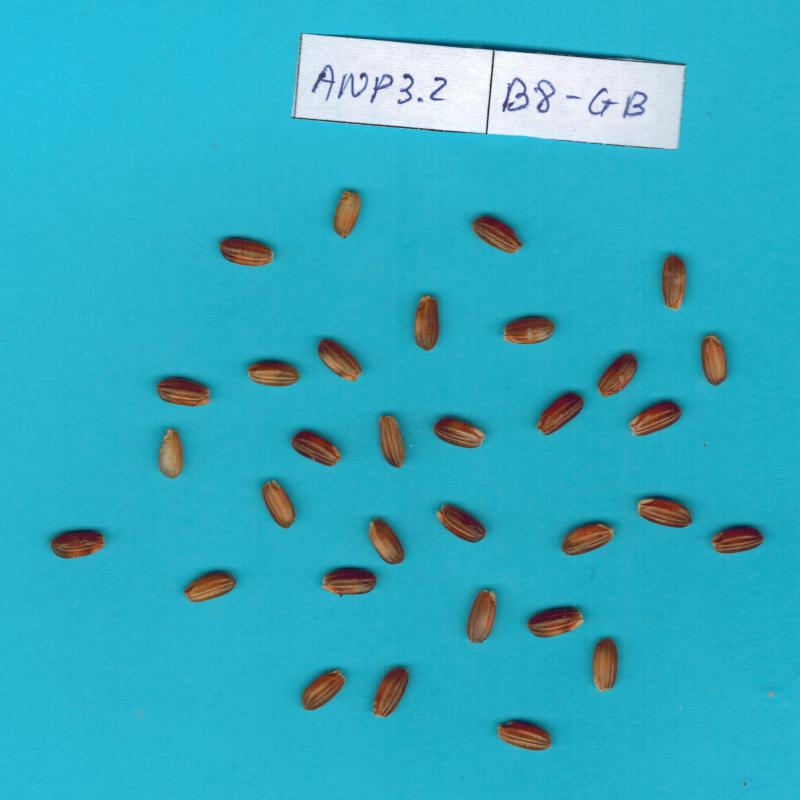Rice: (536, 393, 584, 436), (471, 216, 522, 254), (436, 505, 486, 543), (318, 339, 362, 381), (597, 353, 638, 397), (629, 402, 682, 436), (291, 431, 341, 467), (373, 668, 409, 718), (302, 670, 345, 710), (368, 518, 405, 564), (262, 480, 296, 530), (561, 523, 614, 555), (526, 609, 584, 638), (638, 498, 693, 528), (466, 590, 496, 644), (184, 572, 237, 602), (498, 721, 551, 751), (433, 418, 485, 448), (219, 238, 274, 266), (156, 378, 211, 406), (50, 531, 105, 559), (322, 569, 378, 595), (414, 295, 439, 352), (701, 334, 727, 387), (379, 415, 405, 468), (711, 527, 764, 553), (503, 318, 555, 344), (593, 638, 618, 692), (333, 190, 361, 238), (662, 255, 686, 311), (248, 362, 301, 387), (159, 429, 183, 479)
